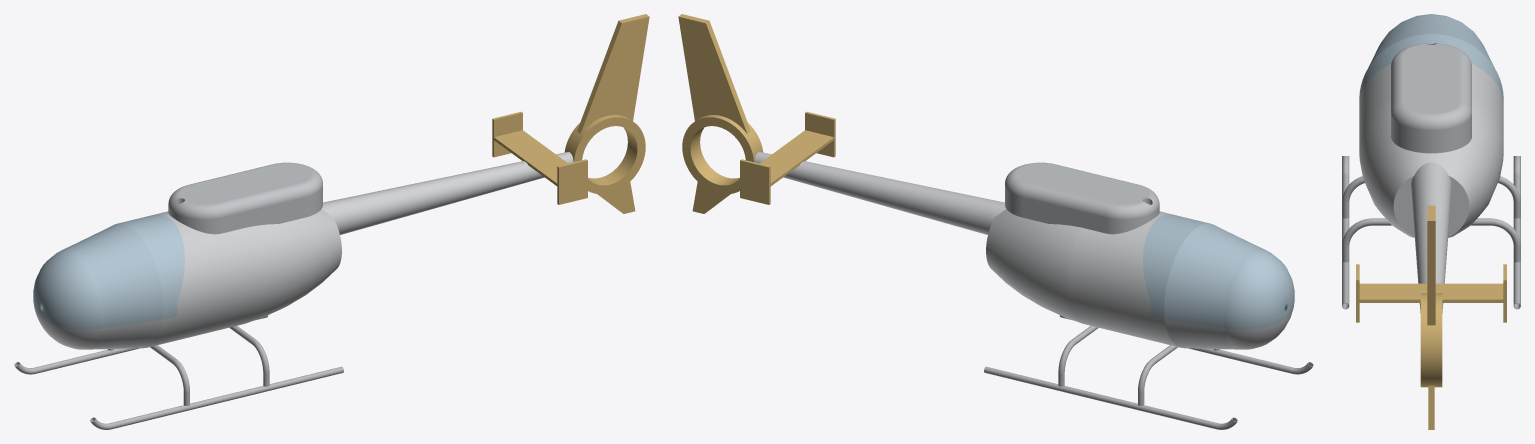
The model's file is step_16.glb.
3 renders of one model, left to right at view 1: azimuth 30°, elevation 25°; view 2: azimuth 150°, elevation 25°; view 3: azimuth 270°, elevation 25°, orthographic. The views are drawn at different scales.
Parts seen in each view (by area): view 1: part__fuselage, part__canopy glazing, part__engine cowling, part__fin and fan duct, part__tail boom, part__horizontal stabiliser, part__skid left, part__skid right; view 2: part__fuselage, part__canopy glazing, part__engine cowling, part__fin and fan duct, part__tail boom, part__horizontal stabiliser, part__skid right, part__skid left; view 3: part__fuselage, part__engine cowling, part__canopy glazing, part__tail boom, part__fin and fan duct, part__horizontal stabiliser, part__cross tube rear, part__skid right, part__skid left, part__cross tube front.
Boxes of the visible parts, x1=… form: part__fuselage: x1=35, y1=209, x2=341, y2=349; part__canopy glazing: x1=33, y1=214, x2=184, y2=329; part__engine cowling: x1=168, y1=162, x2=322, y2=234; part__fin and fan duct: x1=564, y1=14, x2=649, y2=213; part__tail boom: x1=322, y1=152, x2=573, y2=234; part__horizontal stabiliser: x1=492, y1=111, x2=587, y2=204; part__skid left: x1=90, y1=366, x2=343, y2=429; part__skid right: x1=14, y1=315, x2=268, y2=374; part__fuselage: x1=986, y1=209, x2=1292, y2=349; part__canopy glazing: x1=1143, y1=214, x2=1294, y2=329; part__engine cowling: x1=1005, y1=162, x2=1159, y2=234; part__fin and fan duct: x1=678, y1=14, x2=763, y2=213; part__tail boom: x1=754, y1=152, x2=1005, y2=234; part__horizontal stabiliser: x1=740, y1=111, x2=835, y2=204; part__skid right: x1=984, y1=366, x2=1237, y2=429; part__skid left: x1=1059, y1=315, x2=1313, y2=374; part__fuselage: x1=1359, y1=64, x2=1503, y2=237; part__engine cowling: x1=1391, y1=43, x2=1471, y2=153; part__canopy glazing: x1=1359, y1=14, x2=1503, y2=101; part__tail boom: x1=1411, y1=162, x2=1451, y2=313; part__fin and fan duct: x1=1420, y1=205, x2=1442, y2=429; part__horizontal stabiliser: x1=1356, y1=264, x2=1506, y2=322; part__cross tube rear: x1=1342, y1=218, x2=1520, y2=262; part__skid right: x1=1513, y1=156, x2=1520, y2=309; part__skid left: x1=1342, y1=156, x2=1349, y2=309; part__cross tube front: x1=1342, y1=176, x2=1520, y2=218.
Size of the model in its own units: 8773 by 3400 by 1980.
